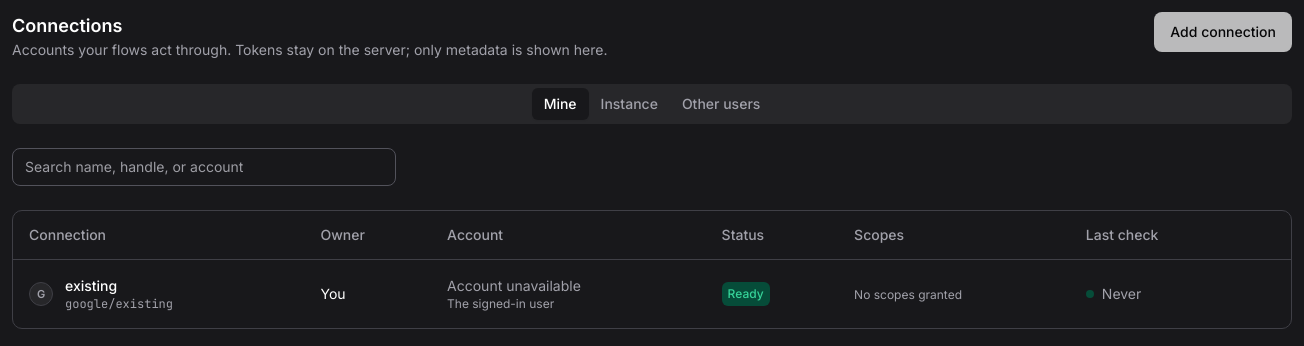
Test: ConnectionsPage tabs › describes an empty Other users tab
Click the tab "Other users".
click(721, 104)  # box [670,88,772,120]
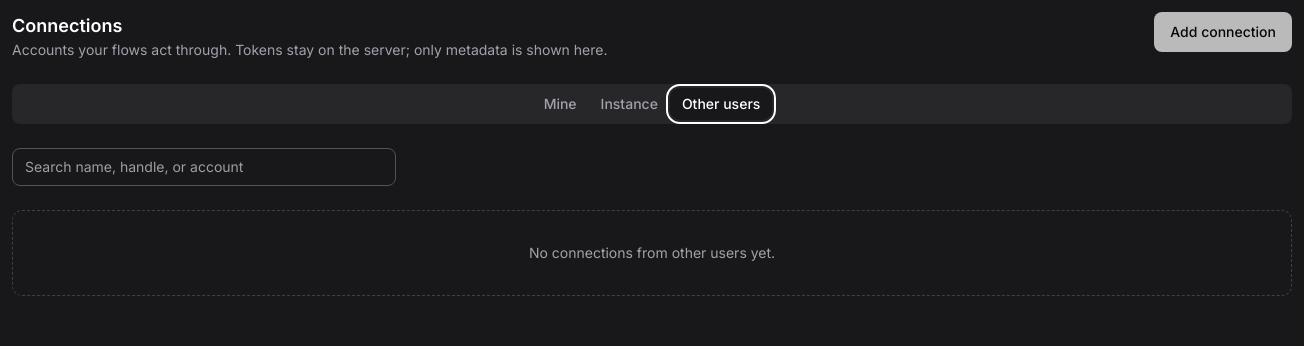
Now the text with test id "connections-empty" reads "No connections from other users yet.", box [529,244,775,261]
